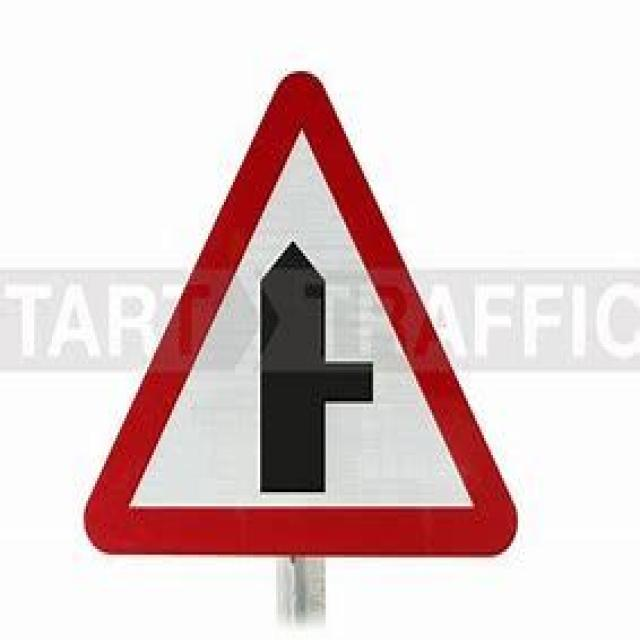SIDE_ROAD_RIGHT: (80, 59, 519, 570)
